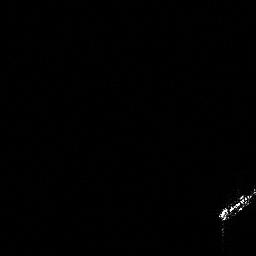ship: (218, 187, 256, 238)
